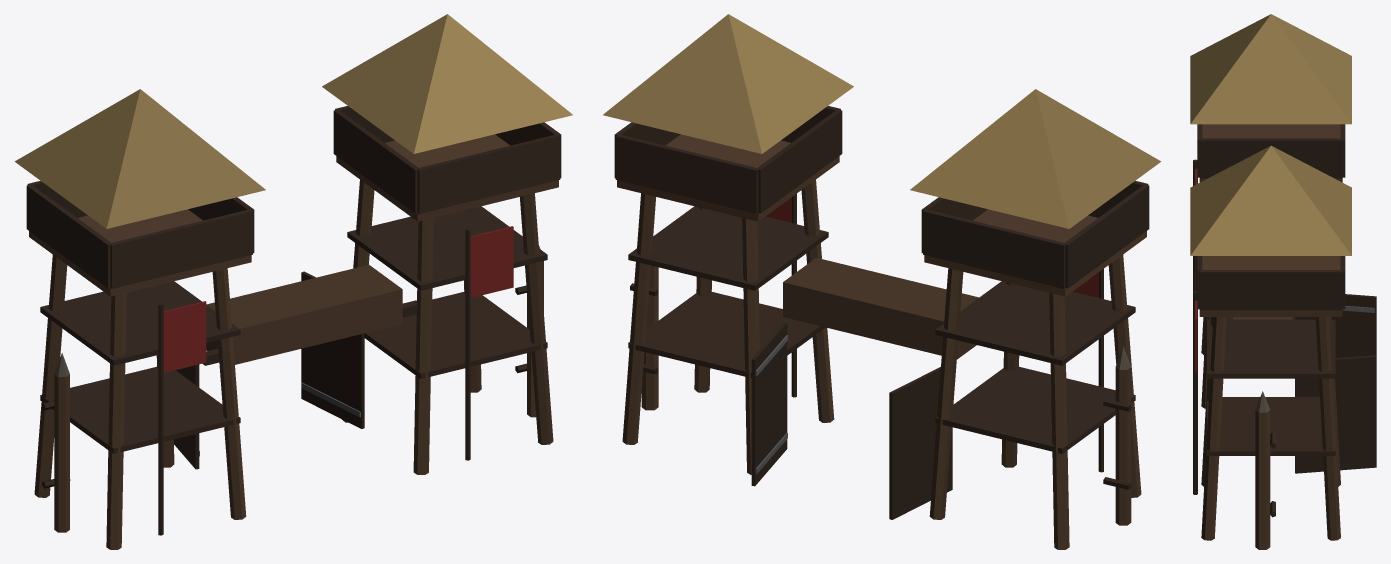
File: walk_rime_gate.glb
3 views of the same model, side by side, from view 1: azimuth 30°, elevation 25°; view 2: azimuth 150°, elevation 25°; view 3: azimuth 270°, elevation 25° (orthographic). The views are drawn at different scales.
Parts seen in each view (by area): view 1: walk_rime_gate, walk_rime_gate_roof, walk_rime_gate_door1, walk_rime_gate_door0; view 2: walk_rime_gate, walk_rime_gate_roof, walk_rime_gate_door0, walk_rime_gate_door1; view 3: walk_rime_gate, walk_rime_gate_roof, walk_rime_gate_door1, walk_rime_gate_door0.
Part boxes in pixels (<box>): walk_rime_gate: <box>26,106,561,549</box>; walk_rime_gate_roof: <box>14,14,572,228</box>; walk_rime_gate_door1: <box>301,271,364,428</box>; walk_rime_gate_door0: <box>174,364,199,469</box>; walk_rime_gate: <box>614,106,1149,549</box>; walk_rime_gate_roof: <box>603,14,1161,228</box>; walk_rime_gate_door0: <box>889,367,952,519</box>; walk_rime_gate_door1: <box>751,322,787,486</box>; walk_rime_gate: <box>1193,124,1345,549</box>; walk_rime_gate_roof: <box>1190,14,1351,255</box>; walk_rime_gate_door1: <box>1295,355,1376,473</box>; walk_rime_gate_door0: <box>1295,294,1376,358</box>.
Size of what is drawn, in the model's own units: 12 by 9.61 by 4.43.
Materials: 2 (2 with a texture image).
